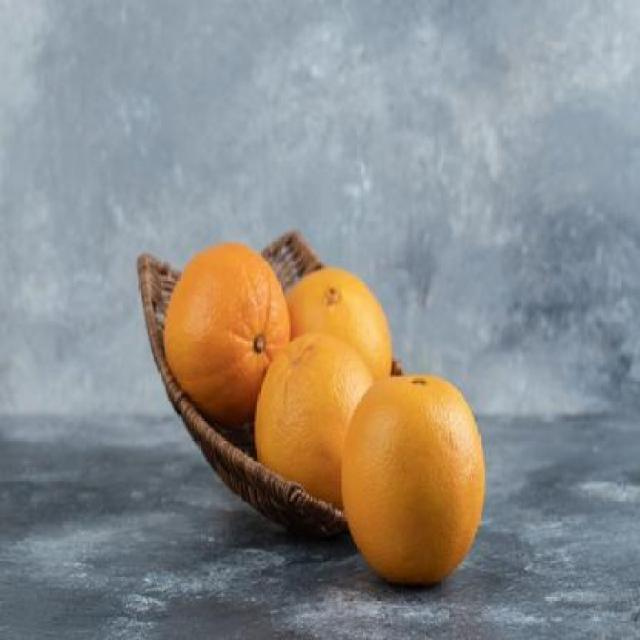Jeruk Sudah Matang: (343, 372, 485, 586), (255, 330, 376, 532), (164, 240, 290, 418), (284, 260, 394, 434)
